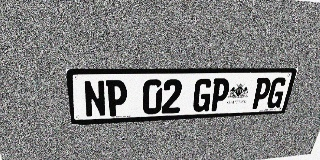0: (142, 79, 163, 115)
2: (161, 79, 183, 114)
G: (192, 78, 214, 112), (265, 77, 288, 108)
N: (83, 80, 106, 118)
P: (106, 80, 127, 116), (209, 78, 231, 111), (250, 78, 273, 109)
